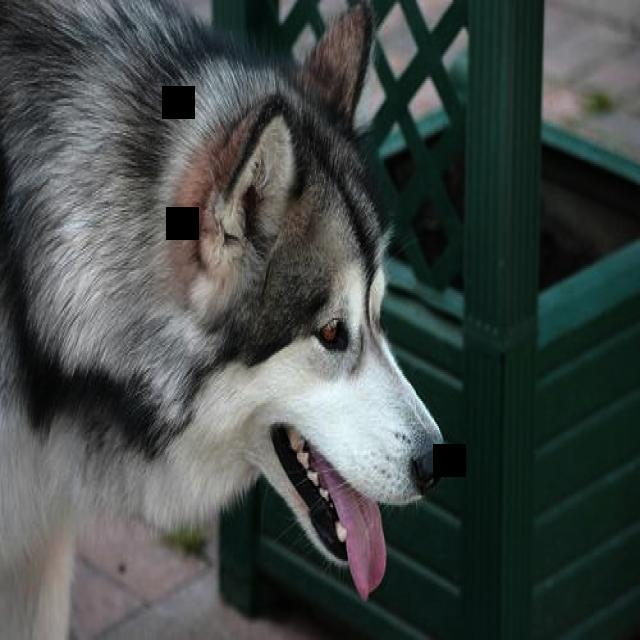adult_dog: (1, 3, 450, 640)
